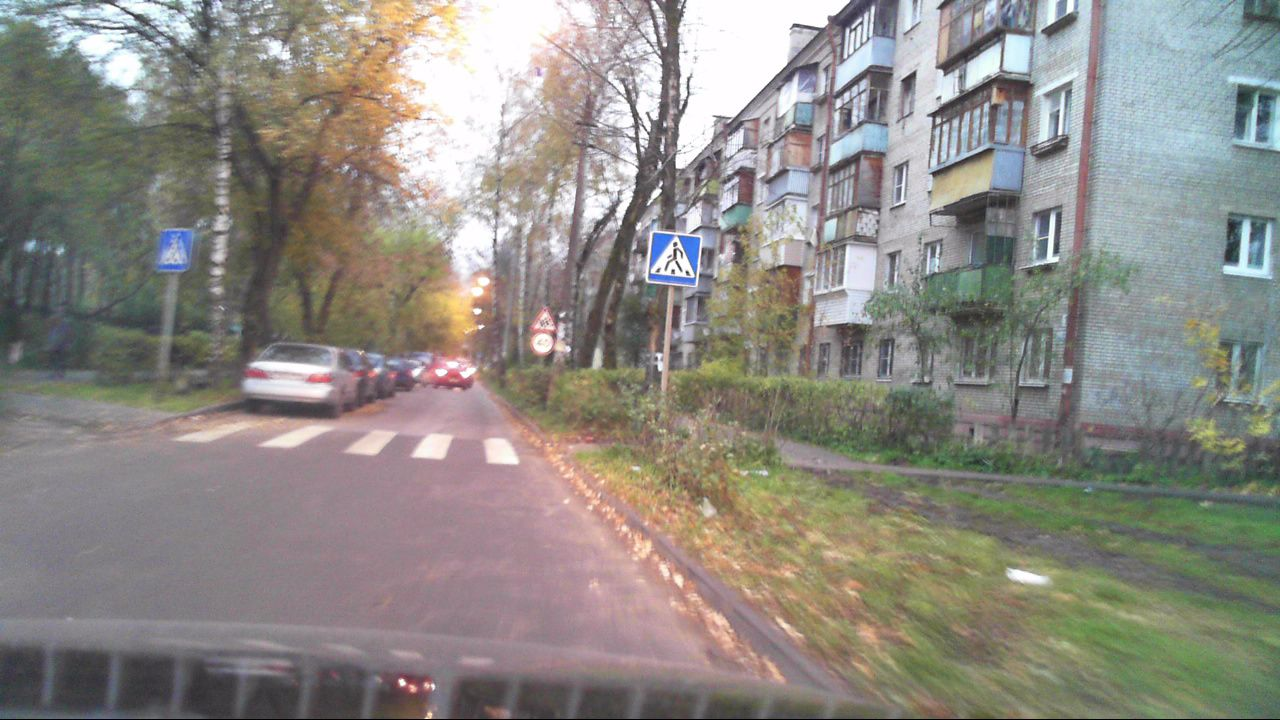speed_warning_40: (530, 334, 554, 356)
